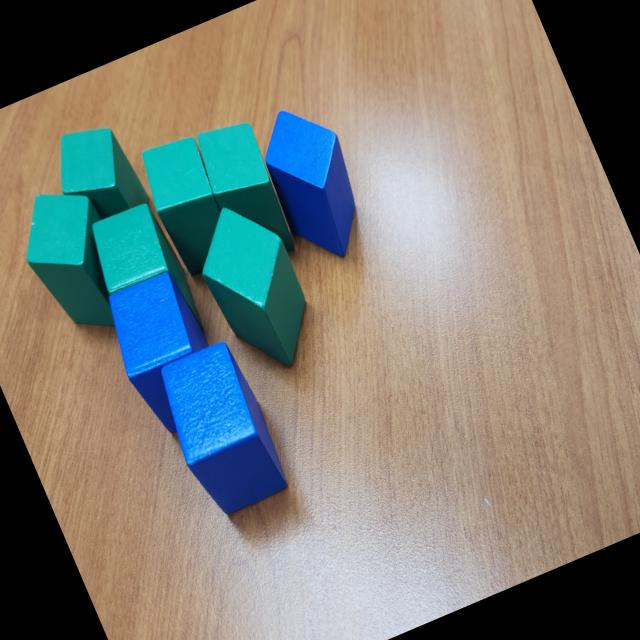blue: (147, 335, 295, 523), (94, 264, 237, 440), (245, 94, 384, 272)
green: (180, 190, 329, 383), (3, 173, 142, 348), (80, 195, 209, 358), (188, 114, 302, 272), (132, 130, 246, 280), (41, 113, 153, 236)
